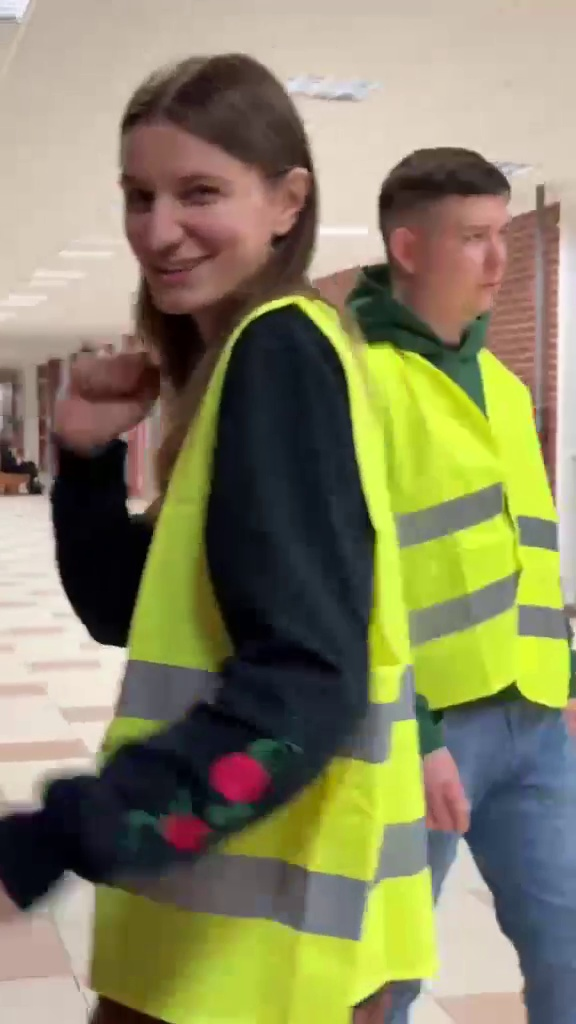vest: (52, 65, 416, 983), (377, 135, 576, 1003)
